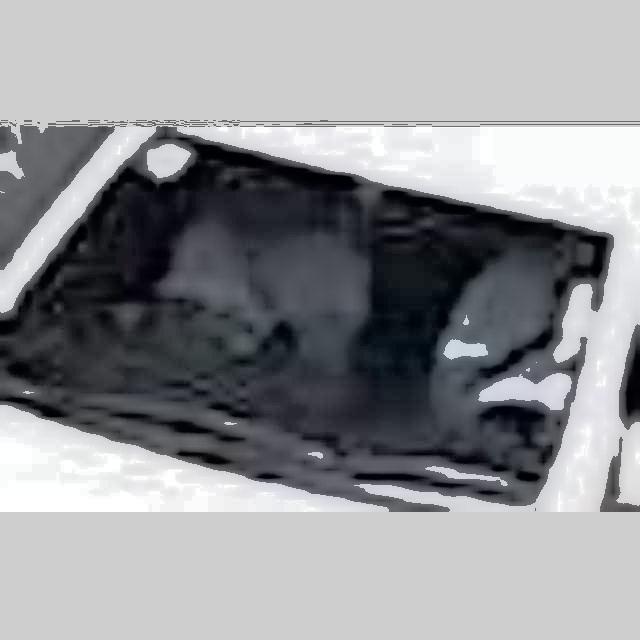pakai: (147, 173, 355, 405), (416, 212, 594, 420)
